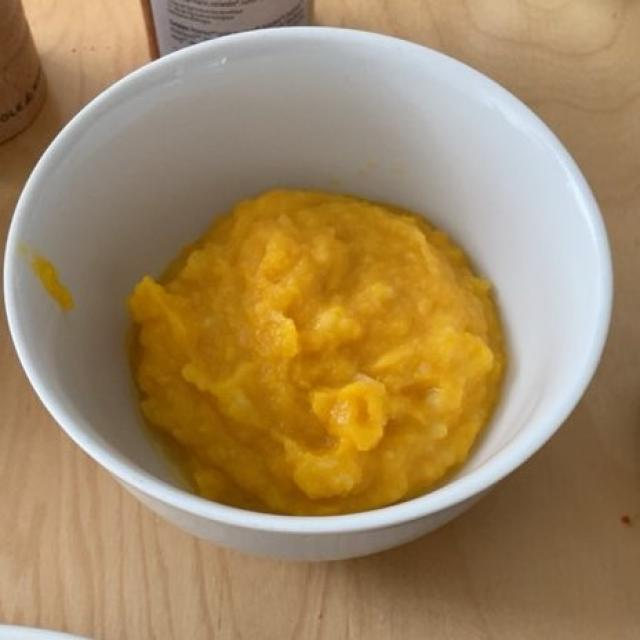soup-pumpkin: (130, 191, 500, 507)
